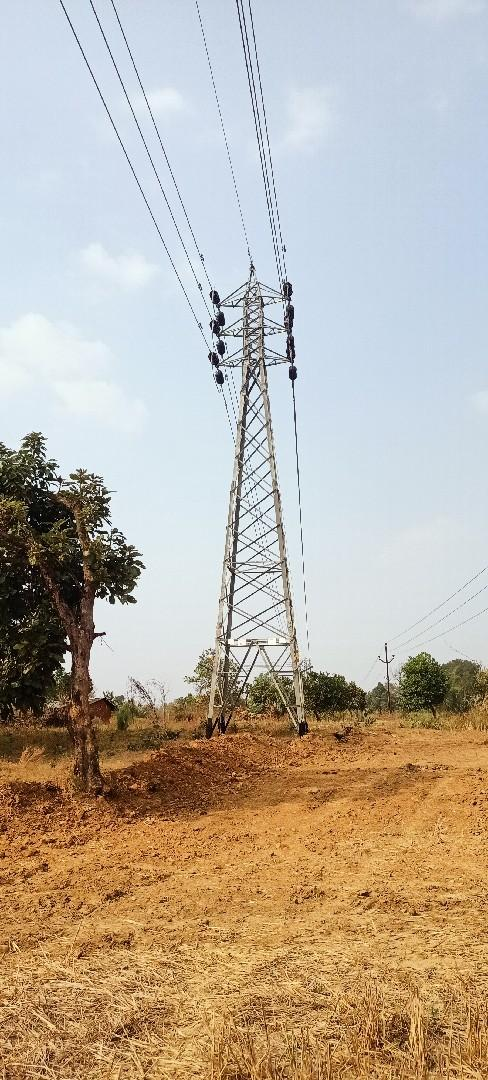GSM Antenna: (199, 260, 317, 722)
